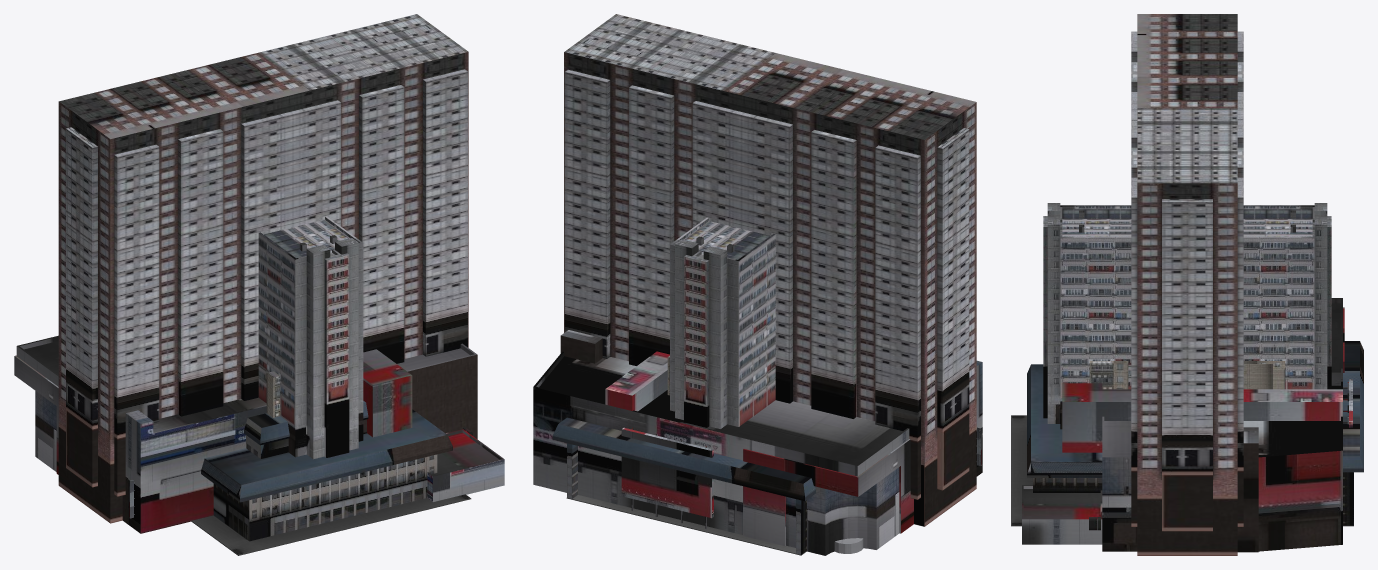
The model's file is buildings.glb.
The picture shows the model from 3 angles, left to right: view 1: azimuth 30°, elevation 25°; view 2: azimuth 150°, elevation 25°; view 3: azimuth 270°, elevation 25°; orthographic projection. The views are drawn at different scales.
Parts seen in each view (by area): view 1: office_0, mall_0, house01_0, theatre_0, theatre_1, house02_0; view 2: office_0, mall_0, house01_0, theatre_0, theatre_1; view 3: office_0, house01_0, mall_0, theatre_0, house02_0, theatre_1.
Part boxes in pixels (x1,y1,x2,y2): office_0: [58, 14, 468, 523]; mall_0: [14, 335, 504, 533]; house01_0: [258, 216, 363, 459]; theatre_0: [201, 401, 452, 541]; theatre_1: [191, 494, 471, 555]; house02_0: [266, 371, 280, 417]; office_0: [564, 14, 976, 526]; mall_0: [533, 330, 982, 555]; house01_0: [670, 217, 775, 428]; theatre_0: [552, 417, 815, 554]; theatre_1: [566, 495, 806, 555]; office_0: [1131, 14, 1243, 555]; house01_0: [1043, 203, 1331, 429]; mall_0: [1022, 298, 1352, 552]; theatre_0: [1027, 341, 1363, 525]; house02_0: [1089, 361, 1285, 389]; theatre_1: [1011, 415, 1353, 526].
Size of the model in its own units: 3 by 2.99 by 2.56.
Materials: 15 (15 with a texture image).
